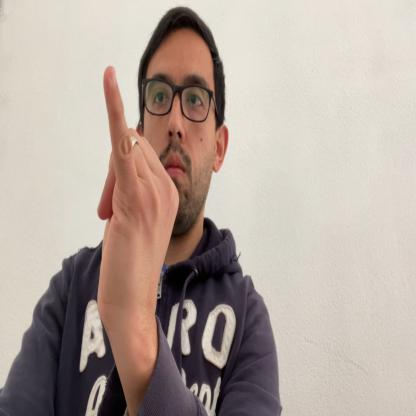I: (97, 63, 180, 335)
